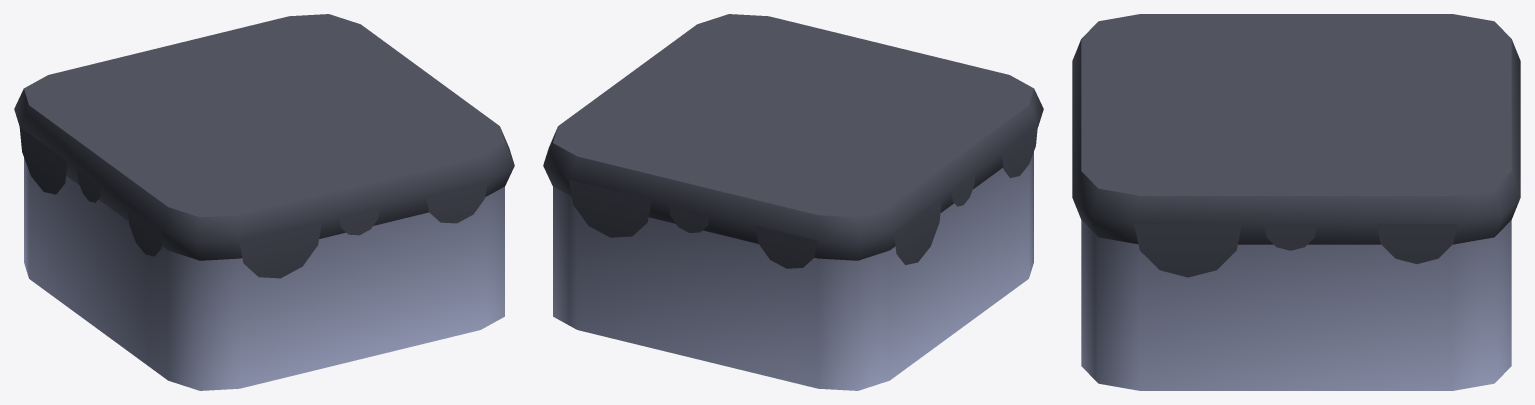
Rendered from block-snow-overhang-large.glb.
3 views of the same model, side by side, from view 1: azimuth 30°, elevation 25°; view 2: azimuth 150°, elevation 25°; view 3: azimuth 270°, elevation 25° (orthographic). The views are drawn at different scales.
Parts seen in each view (by area): view 1: block-snow-overhang-large; view 2: block-snow-overhang-large; view 3: block-snow-overhang-large.
Part boxes in pixels (x1,y1,x2,y2): block-snow-overhang-large: (14,14,514,390); block-snow-overhang-large: (543,14,1043,390); block-snow-overhang-large: (1072,14,1520,390).
Size of the model in its own units: 2.08 by 1 by 2.08.
